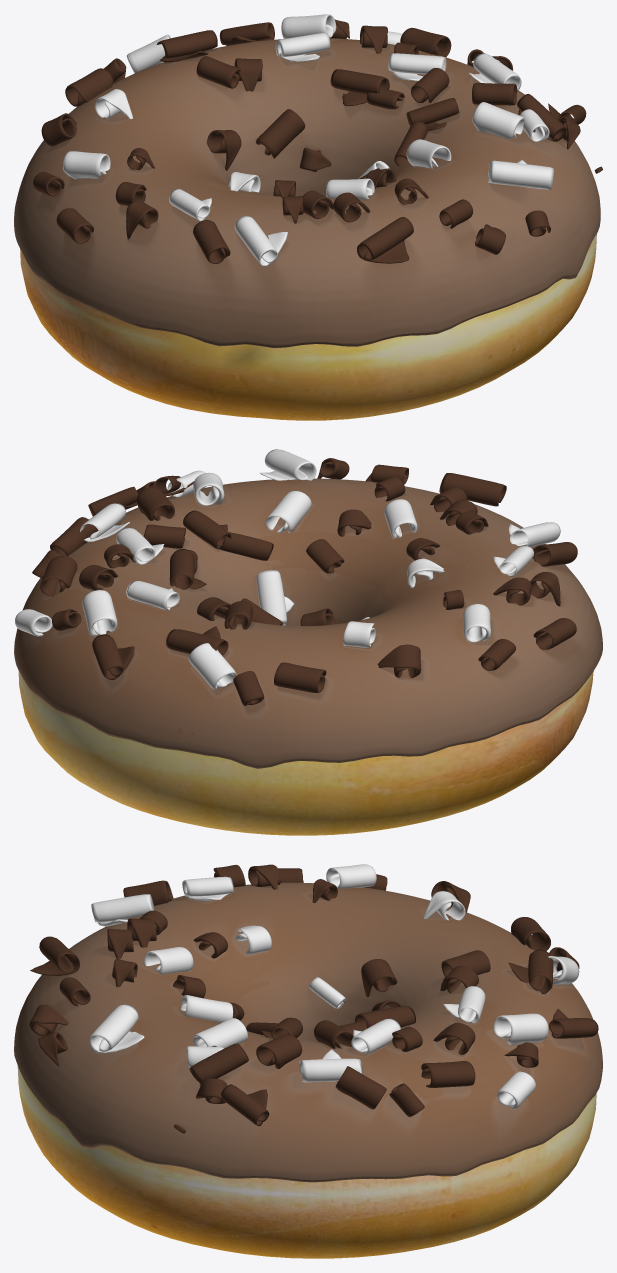
File: coffee two in one curls.glb
The picture shows the model from 3 angles, top to bottom: view 1: azimuth 30°, elevation 25°; view 2: azimuth 150°, elevation 25°; view 3: azimuth 270°, elevation 25°; orthographic projection. The views are drawn at different scales.
Visible parts, largest first — view 1: coffee.001, coffee, two in one curls, Torus; view 2: coffee, coffee.001, two in one curls, Torus; view 3: coffee, coffee.001, two in one curls, Torus.
Part boxes in pixels (left/top/right/bottom): coffee.001: left=14, top=38, right=600, bottom=347; coffee: left=14, top=38, right=600, bottom=348; two in one curls: left=33, top=14, right=602, bottom=266; Torus: left=20, top=233, right=596, bottom=420; coffee: left=14, top=479, right=597, bottom=768; coffee.001: left=14, top=478, right=602, bottom=768; two in one curls: left=15, top=449, right=577, bottom=705; Torus: left=18, top=671, right=593, bottom=835; coffee: left=15, top=883, right=602, bottom=1181; coffee.001: left=14, top=882, right=602, bottom=1182; two in one curls: left=29, top=864, right=598, bottom=1133; Torus: left=17, top=1066, right=596, bottom=1258.
Bounding box in the file's own units: 0.1996 × 0.0804 × 0.1979.
5 materials, 2 textured.
